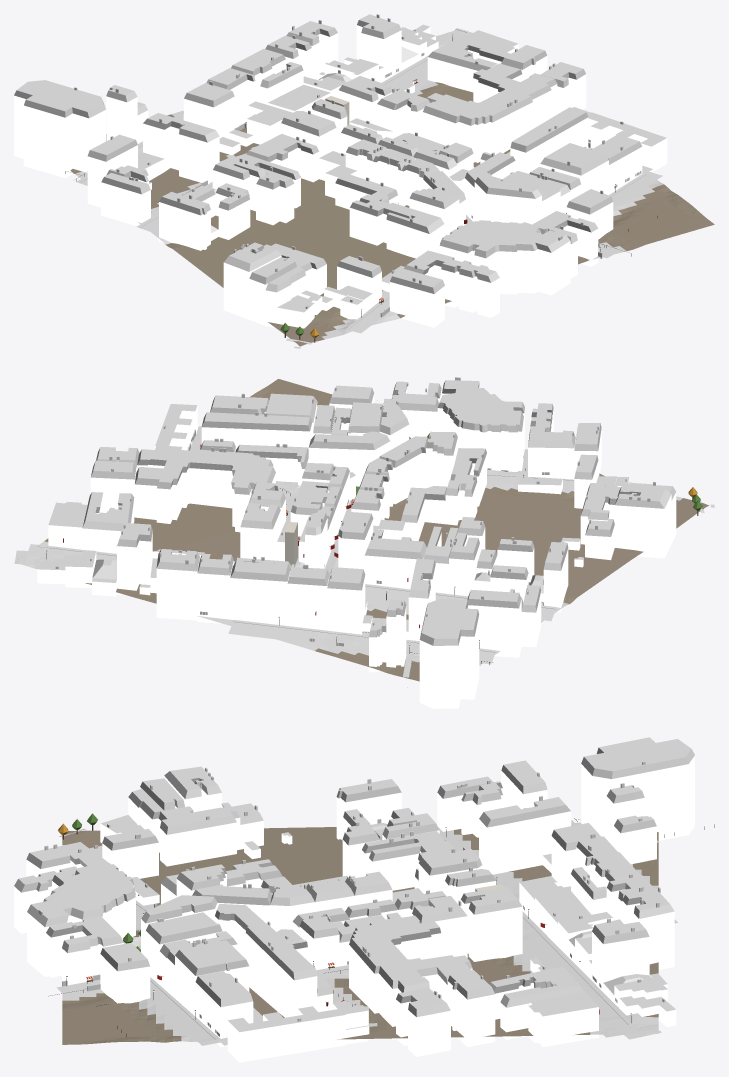
Rendered from zone_I2.glb.
The picture shows the model from 3 angles, top to bottom: view 1: azimuth 30°, elevation 25°; view 2: azimuth 150°, elevation 25°; view 3: azimuth 270°, elevation 25°; orthographic projection. The views are drawn at different scales.
Visible parts, largest first — view 1: zone_I2_batiments, zone_I2_terrain, zone_I2_sol_NOCOL; view 2: zone_I2_batiments, zone_I2_terrain, zone_I2_sol_NOCOL; view 3: zone_I2_batiments, zone_I2_terrain, zone_I2_sol_NOCOL, zone_I2_decor_NOCOL.
Part boxes in pixels (<box>): zone_I2_batiments: <box>14,14,667,328</box>; zone_I2_terrain: <box>70,31,714,346</box>; zone_I2_sol_NOCOL: <box>76,28,662,348</box>; zone_I2_batiments: <box>37,377,676,708</box>; zone_I2_terrain: <box>14,379,708,681</box>; zone_I2_sol_NOCOL: <box>14,426,714,677</box>; zone_I2_batiments: <box>14,737,694,1062</box>; zone_I2_terrain: <box>62,822,658,1044</box>; zone_I2_sol_NOCOL: <box>56,820,677,1045</box>; zone_I2_decor_NOCOL: <box>48,813,714,1036</box>.
Size of the model in its own units: 223 by 35.74 by 247.
